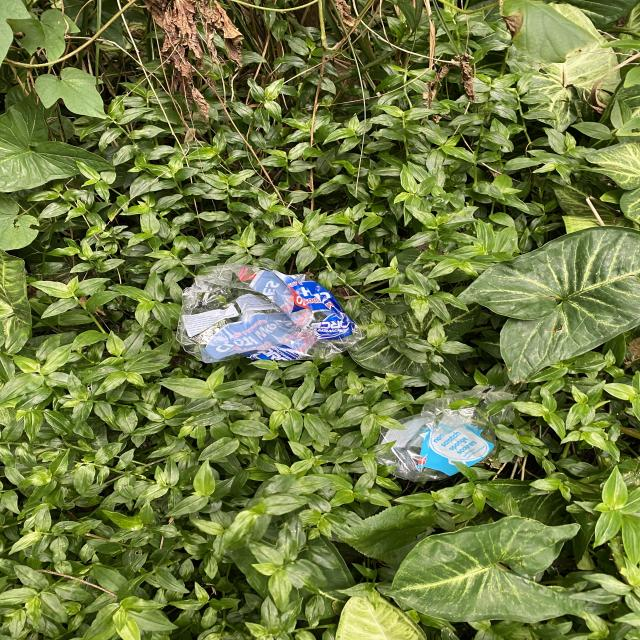wrappers: (176, 263, 367, 363), (376, 391, 516, 483)
